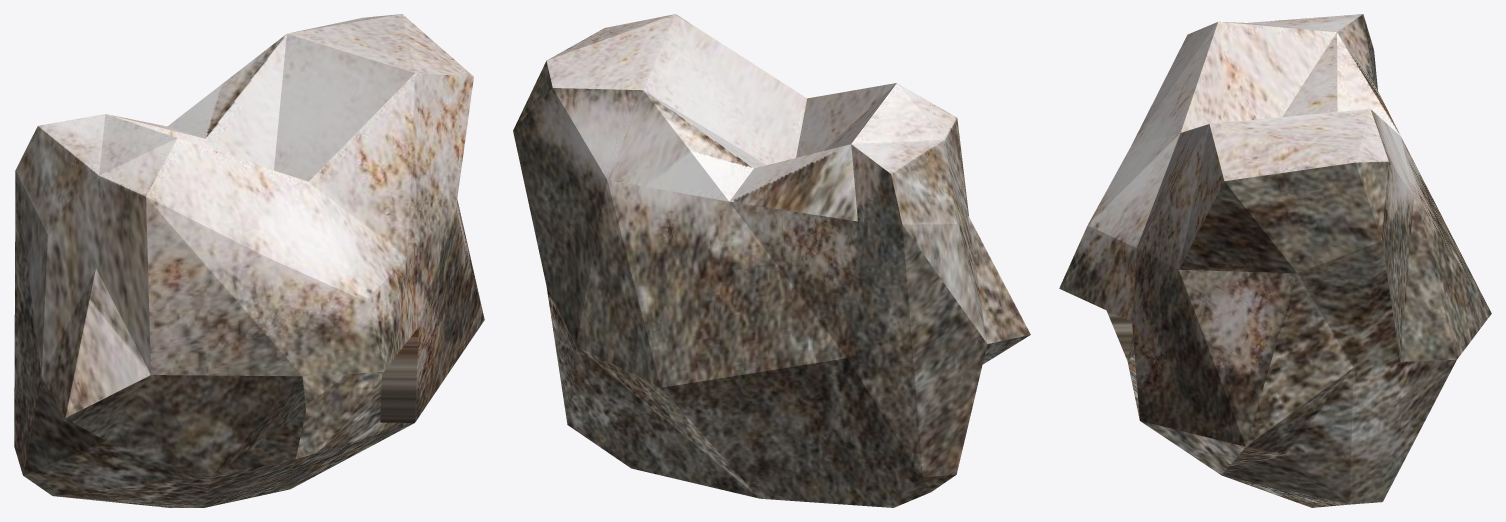
The model's file is MountainAtlas.obj.
3 renders of one model, left to right at view 1: azimuth 30°, elevation 25°; view 2: azimuth 150°, elevation 25°; view 3: azimuth 270°, elevation 25°, orthographic. The views are drawn at different scales.
Visible parts, largest first — view 1: Cube.023_Cube; view 2: Cube.023_Cube; view 3: Cube.023_Cube.
Part boxes in pixels (x1=…): Cube.023_Cube: x1=14, y1=14, x2=484, y2=507; Cube.023_Cube: x1=513, y1=14, x2=1030, y2=507; Cube.023_Cube: x1=1059, y1=14, x2=1491, y2=507.
Bounding box in the file's own units: 19.34 × 17.25 × 16.31.
Materials: 1 (1 with a texture image).
